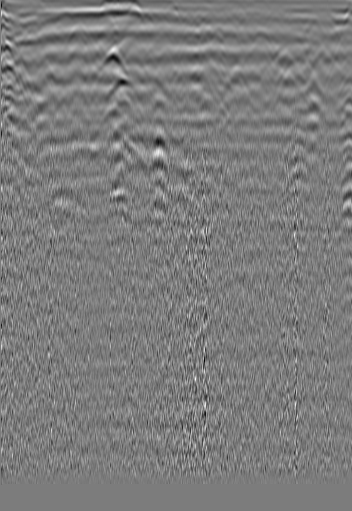가스: (105, 181, 133, 212)
상수: (35, 43, 64, 69)
오수: (304, 42, 341, 76)
우수: (148, 25, 184, 57)
